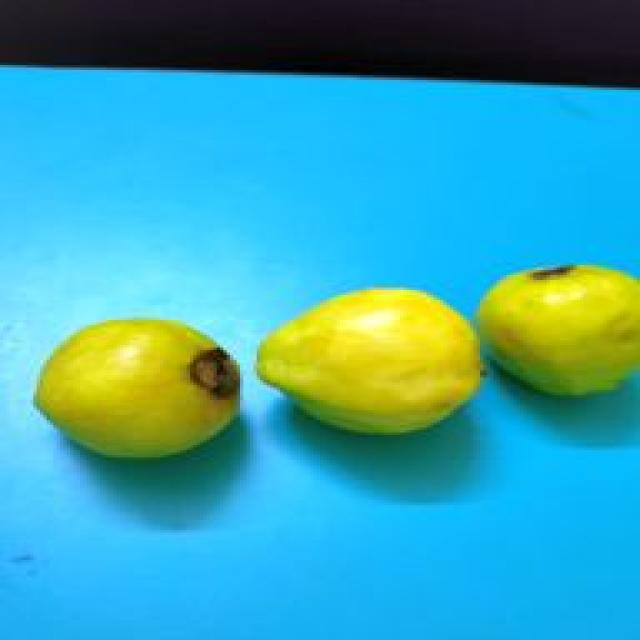Good_Guava: (253, 288, 487, 438), (30, 318, 243, 462), (473, 265, 640, 400)
